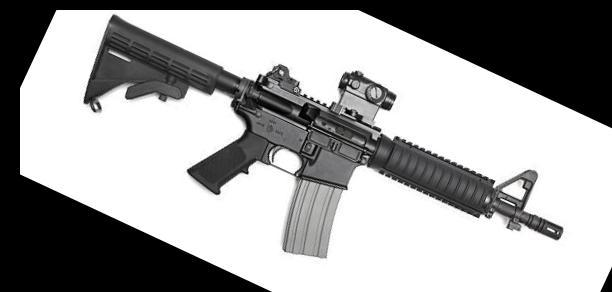larga: (83, 14, 564, 260)
